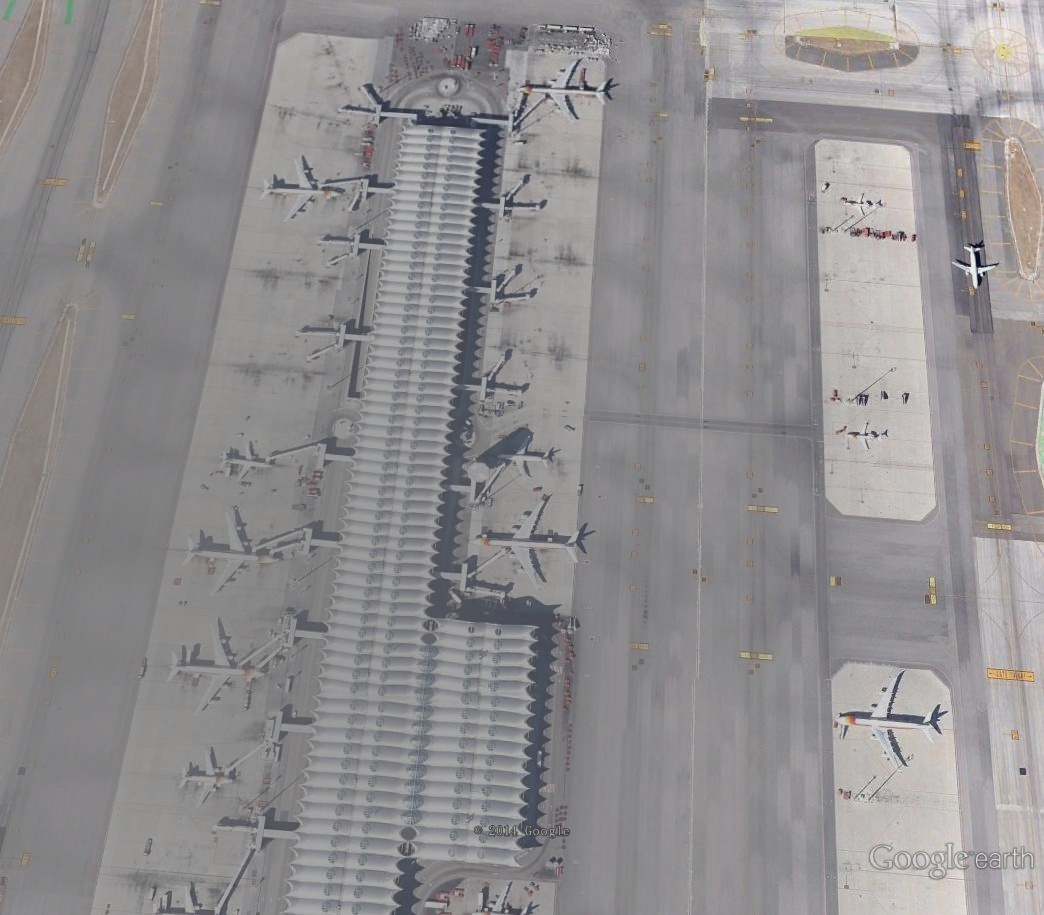aircraft: (834, 668, 941, 777), (468, 501, 584, 592), (165, 623, 264, 714), (182, 511, 285, 598), (521, 58, 614, 127), (258, 158, 345, 225), (176, 747, 239, 811), (496, 430, 555, 481), (218, 439, 278, 484), (951, 243, 1001, 291), (843, 421, 882, 454), (842, 193, 876, 218)
